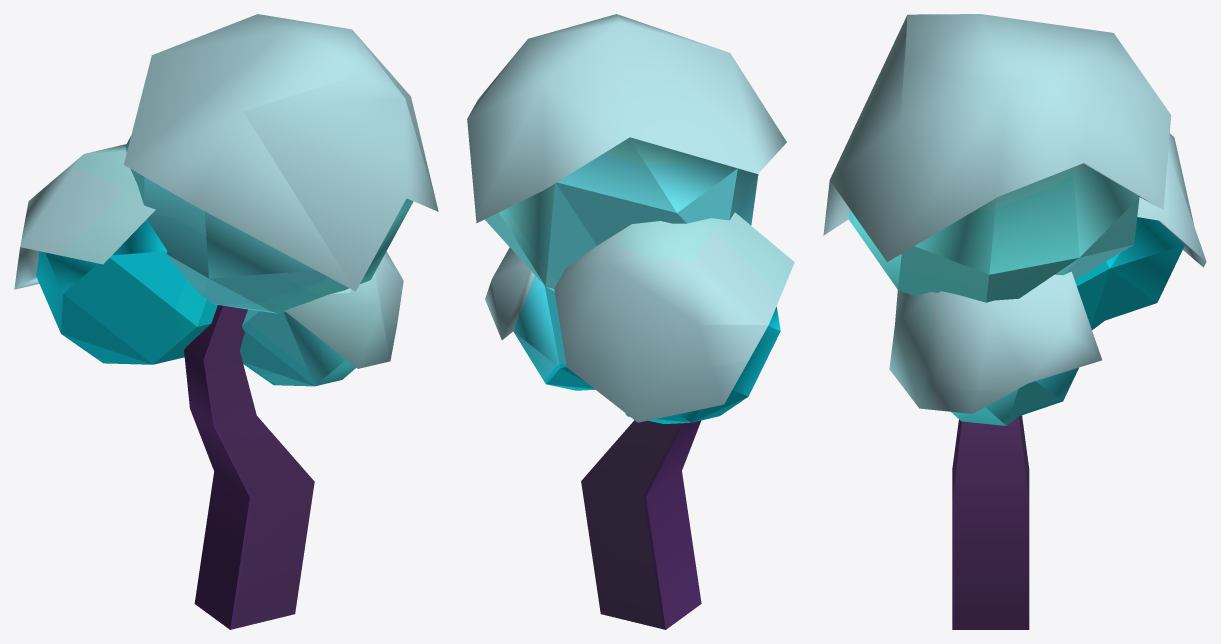
Rendered from Tree3.fbx.
3 views of the same model, side by side, from view 1: azimuth 30°, elevation 25°; view 2: azimuth 150°, elevation 25°; view 3: azimuth 270°, elevation 25° (orthographic). The views are drawn at different scales.
Parts seen in each view (by area): view 1: Tree3; view 2: Tree3; view 3: Tree3.
Part boxes in pixels (x1,y1,x2,y2): Tree3: (14,14,438,629); Tree3: (467,14,794,629); Tree3: (823,14,1206,629).
Bounding box in the file's own units: 3.24 × 5.2 × 2.93.
